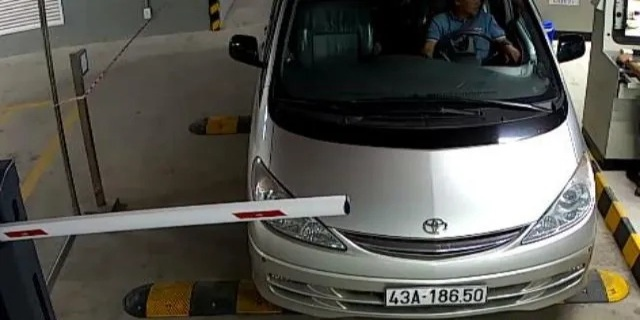bien_so: (388, 285, 487, 306)
